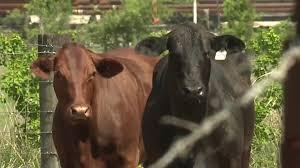cow: (134, 23, 255, 168), (29, 42, 168, 168)
